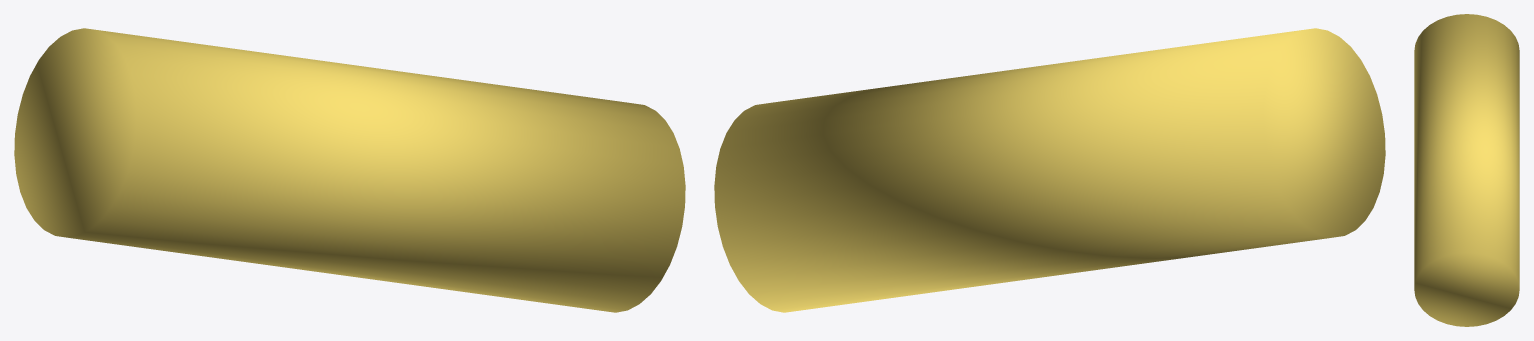
The model's file is SEDAN_Tire_Valve_Stem_FL.glb.
3 views of the same model, side by side, from view 1: azimuth 30°, elevation 25°; view 2: azimuth 150°, elevation 25°; view 3: azimuth 270°, elevation 25° (orthographic). The views are drawn at different scales.
Visible parts, largest first — view 1: SEDAN_Tire_Valve_Stem_FL; view 2: SEDAN_Tire_Valve_Stem_FL; view 3: SEDAN_Tire_Valve_Stem_FL.
Boxes of the visible parts, x1,y1,x2,y2 form: SEDAN_Tire_Valve_Stem_FL: [14, 28, 685, 312]; SEDAN_Tire_Valve_Stem_FL: [714, 28, 1385, 312]; SEDAN_Tire_Valve_Stem_FL: [1414, 14, 1519, 326].
Bounding box in the file's own units: 0.0335 × 0.0203 × 0.01.
